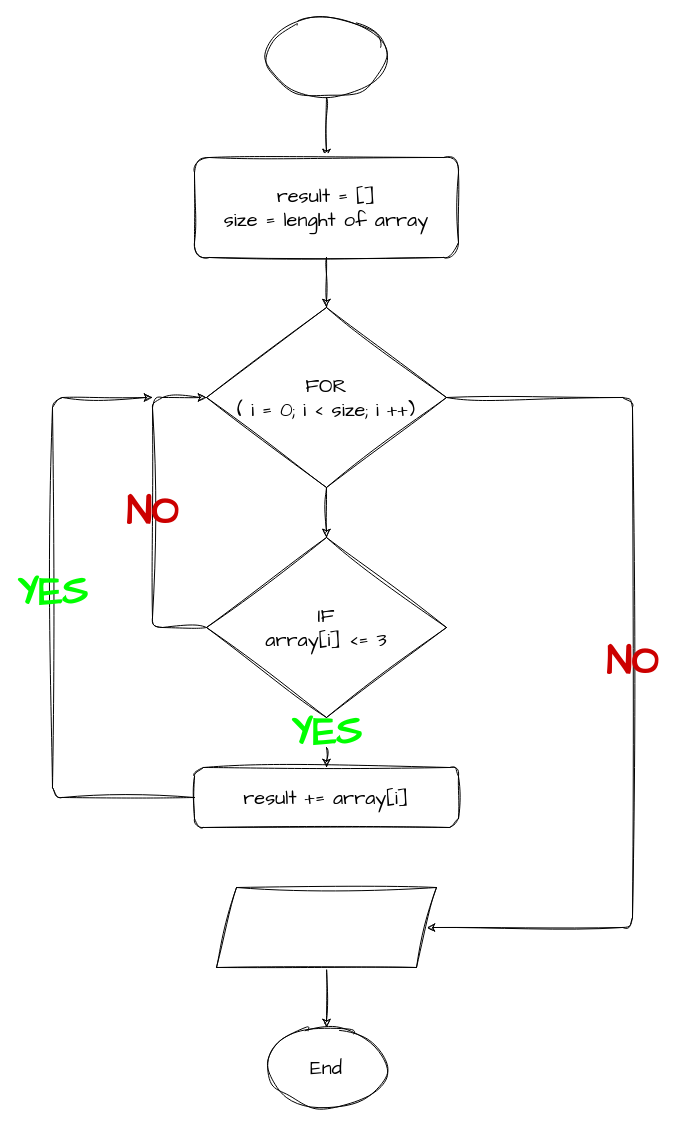
This 680x1125 diagram has some shape labels left out. Each missing label, with the box of its shape:
print(result): (216, 886, 436, 968)
Start: (266, 16, 386, 98)
